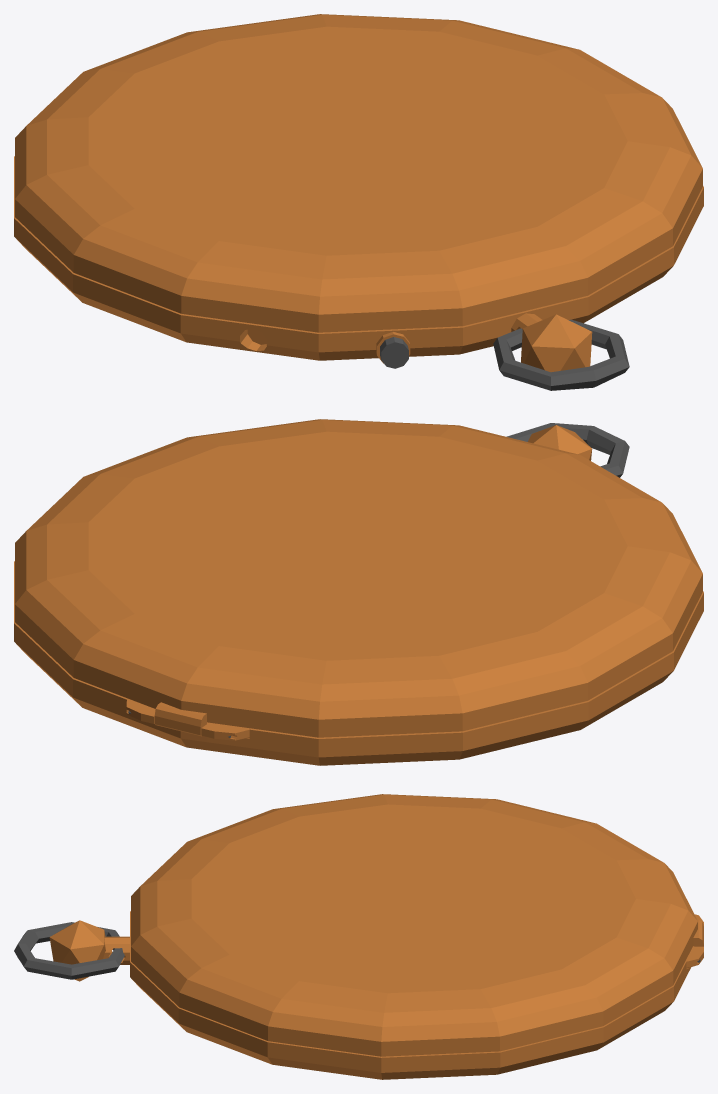
File: Pocket_Watch.fbx
3 views of the same model, one above another, from view 1: azimuth 30°, elevation 25°; view 2: azimuth 150°, elevation 25°; view 3: azimuth 270°, elevation 25° (orthographic). The views are drawn at different scales.
Visible parts, largest first — view 1: Cap, Casing, Ring, Stopwatch; view 2: Cap, Casing, Ring; view 3: Cap, Casing, Ring.
Part boxes in pixels (x1,y1,x2,y2): Cap: [15, 14, 702, 332]; Casing: [14, 156, 703, 372]; Ring: [493, 319, 629, 390]; Stopwatch: [380, 337, 408, 368]; Cap: [15, 419, 702, 737]; Casing: [14, 425, 703, 765]; Ring: [506, 423, 629, 477]; Cap: [131, 794, 703, 1056]; Casing: [49, 911, 703, 1079]; Ring: [14, 922, 124, 979].
Bounding box in the file's own units: 1.99 × 0.3176 × 2.4.
